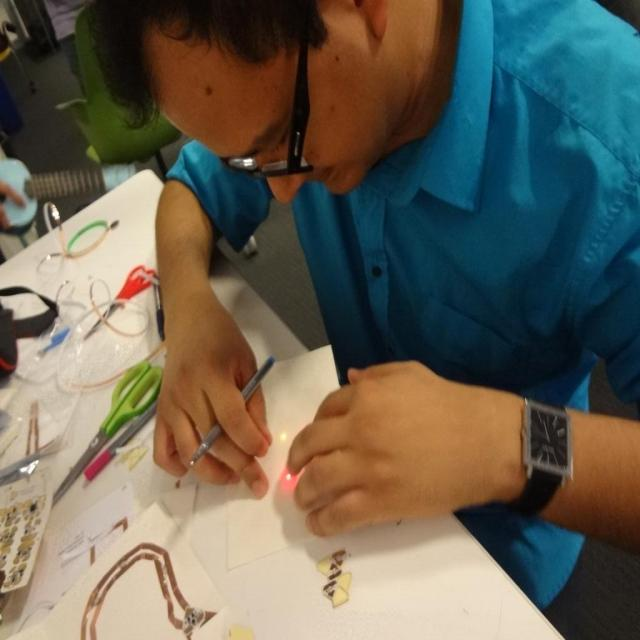scissor: (47, 351, 162, 506)
